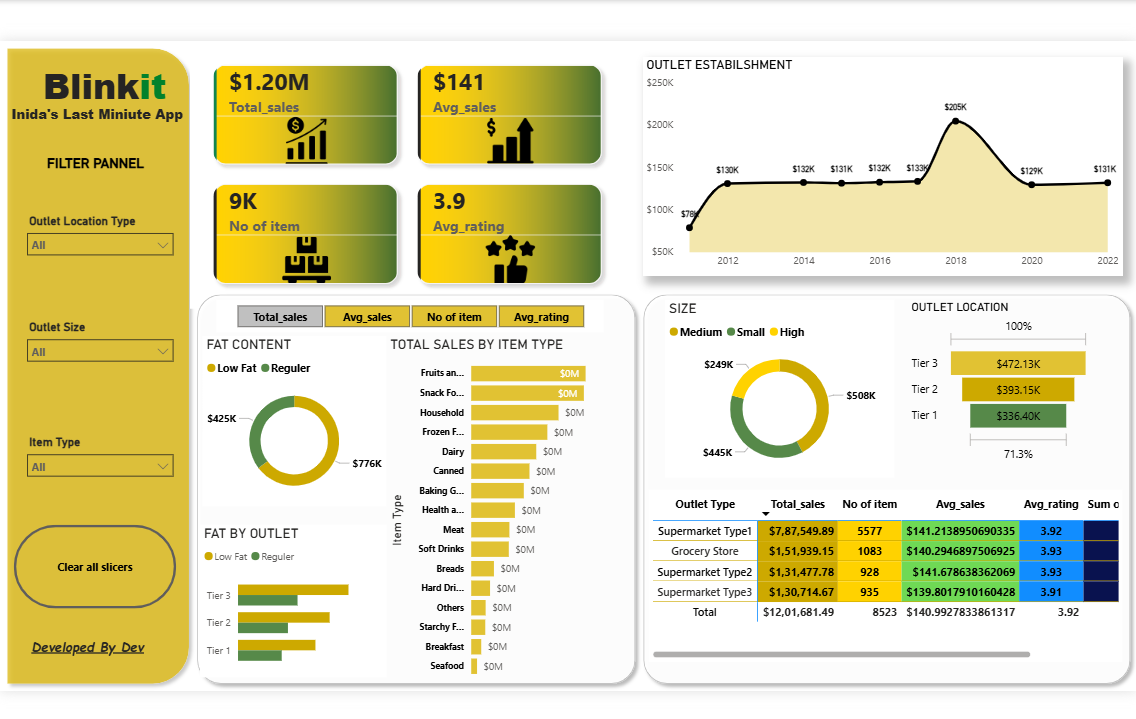

The dashboard page shown, as its layout file describes it:
{"tool":"powerbi","page":{"name":"Page 1","canvas":[1400,800],"ordinal":0},"visuals":[{"type":"shape","box":[0,0,241.6,800.2],"z":0},{"type":"textbox","box":[33.8,20.6,189.7,78],"z":1000},{"type":"textbox","box":[9.2,73.9,240.1,50.8],"z":2000},{"type":"cardVisual","fields":{"Data":["BlinkIT Grocery Data.Total_sales","BlinkIT Grocery Data.Avg_sales","BlinkIT Grocery Data.No of item","BlinkIT Grocery Data.Avg_rating"]},"box":[233.9,0,537,329.3],"z":3000},{"type":"shape","box":[233.9,303.1,557,497],"z":4000},{"type":"donutChart","title":"FAT CONTENT","fields":{"Y":["BlinkIT Grocery Data.Total_sales"],"Category":["BlinkIT Grocery Data.Item Fat Content"]},"box":[249.3,363.2,226.2,209.3],"z":5000},{"type":"slicer","fields":{"Values":["Matrics.Matrics"]},"box":[266.2,318.5,477,40],"z":6000},{"type":"clusteredBarChart","title":"FAT BY OUTLET","fields":{"Y":["BlinkIT Grocery Data.Total_sales"],"Category":["BlinkIT Grocery Data.Outlet Location Type"],"Series":["BlinkIT Grocery Data.Item Fat Content"]},"box":[246.2,595.5,229.3,187.7],"z":7000},{"type":"clusteredBarChart","title":"TOTAL SALES BY ITEM TYPE","fields":{"Y":["BlinkIT Grocery Data.Total_sales"],"Category":["BlinkIT Grocery Data.Item Type"]},"box":[475.5,363.2,280.1,430.9],"z":8000},{"type":"lineChart","title":"OUTLET ESTABILSHMENT","fields":{"Y":["BlinkIT Grocery Data.Total_sales"],"Category":["BlinkIT Grocery Data.Outlet Establishment Year"]},"box":[790.9,20,590.9,269.3],"z":9000},{"type":"shape","box":[783.3,303.1,617.1,497],"z":10000},{"type":"donutChart","title":"SIZE ","fields":{"Y":["BlinkIT Grocery Data.Total_sales"],"Category":["BlinkIT Grocery Data.Outlet Size"]},"box":[819.3,319.2,282.4,219.2],"z":11000},{"type":"funnel","title":"OUTLET LOCATION","fields":{"Y":["BlinkIT Grocery Data.Total_sales"],"Category":["BlinkIT Grocery Data.Outlet Location Type"]},"box":[1117.9,319.2,229.5,204.5],"z":12000},{"type":"pivotTable","fields":{"Rows":["BlinkIT Grocery Data.Outlet Type"],"Values":["BlinkIT Grocery Data.Total_sales","BlinkIT Grocery Data.No of item","BlinkIT Grocery Data.Avg_sales","BlinkIT Grocery Data.Avg_rating","Sum(BlinkIT Grocery Data.Item Visibility)"]},"box":[798.6,552.4,583.2,212.4],"z":13000},{"type":"slicer","fields":{"Values":["BlinkIT Grocery Data.Outlet Location Type"]},"box":[23.1,207.7,200,110.8],"z":14000},{"type":"slicer","fields":{"Values":["BlinkIT Grocery Data.Outlet Size"]},"box":[23.1,338.5,200,100],"z":15000},{"type":"slicer","fields":{"Values":["BlinkIT Grocery Data.Item Type"]},"box":[23.1,480.1,200,98.5],"z":16000},{"type":"textbox","box":[33.9,135.4,167.7,50.8],"z":17000},{"type":"actionButton","box":[16.9,595.5,200,103.1],"z":18000},{"type":"textbox","box":[33.9,729.4,166.2,35.4],"z":19000}]}

Visuals, with their boxes on the page's 1400x800 design canvas (x1, y1, x2, y2). These are canvas units, not pixel positions in the 1136x719 screenshot, which may show the page scaled, cropped or inside an application window:
shape: select_region(0, 0, 242, 800)
textbox: select_region(34, 21, 224, 99)
textbox: select_region(9, 74, 249, 125)
cardVisual - BlinkIT Grocery Data.Total_sales x BlinkIT Grocery Data.Avg_sales: select_region(234, 0, 771, 329)
shape: select_region(234, 303, 791, 800)
"FAT CONTENT" donutChart: select_region(249, 363, 476, 572)
slicer - Matrics.Matrics: select_region(266, 318, 743, 358)
"FAT BY OUTLET" clusteredBarChart: select_region(246, 596, 476, 783)
"TOTAL SALES BY ITEM TYPE" clusteredBarChart: select_region(476, 363, 756, 794)
"OUTLET ESTABILSHMENT" lineChart: select_region(791, 20, 1382, 289)
shape: select_region(783, 303, 1400, 800)
"SIZE " donutChart: select_region(819, 319, 1102, 538)
"OUTLET LOCATION" funnel: select_region(1118, 319, 1347, 524)
pivotTable - BlinkIT Grocery Data.Outlet Type x BlinkIT Grocery Data.Total_sales: select_region(799, 552, 1382, 765)
slicer - BlinkIT Grocery Data.Outlet Location Type: select_region(23, 208, 223, 318)
slicer - BlinkIT Grocery Data.Outlet Size: select_region(23, 338, 223, 438)
slicer - BlinkIT Grocery Data.Item Type: select_region(23, 480, 223, 579)
textbox: select_region(34, 135, 202, 186)
actionButton: select_region(17, 596, 217, 699)
textbox: select_region(34, 729, 200, 765)
